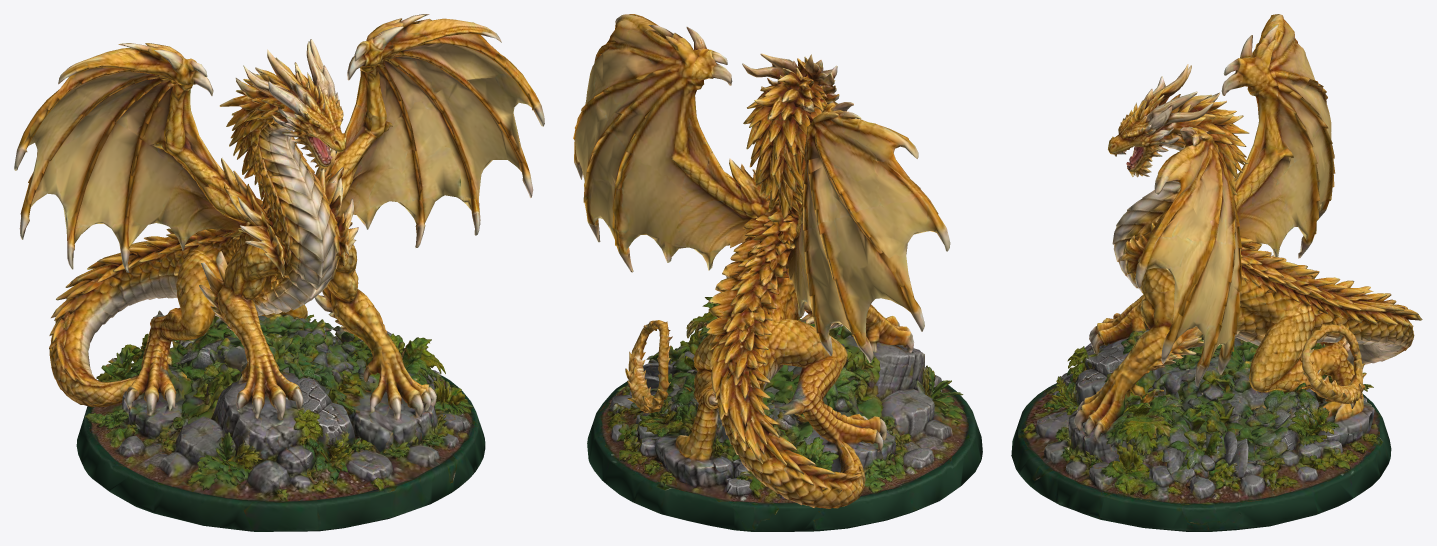
The model's file is goldDragon.glb.
3 renders of one model, left to right at view 1: azimuth 30°, elevation 25°; view 2: azimuth 150°, elevation 25°; view 3: azimuth 270°, elevation 25°, orthographic. The views are drawn at different scales.
Bounding box in the file's own units: 1.9 × 1.65 × 1.61.
Materials: 1 (1 with a texture image).
